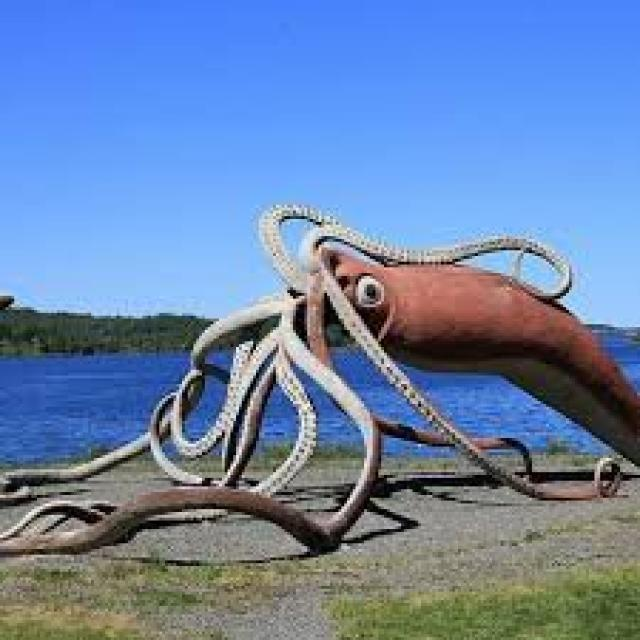squid: (0, 205, 637, 552)
